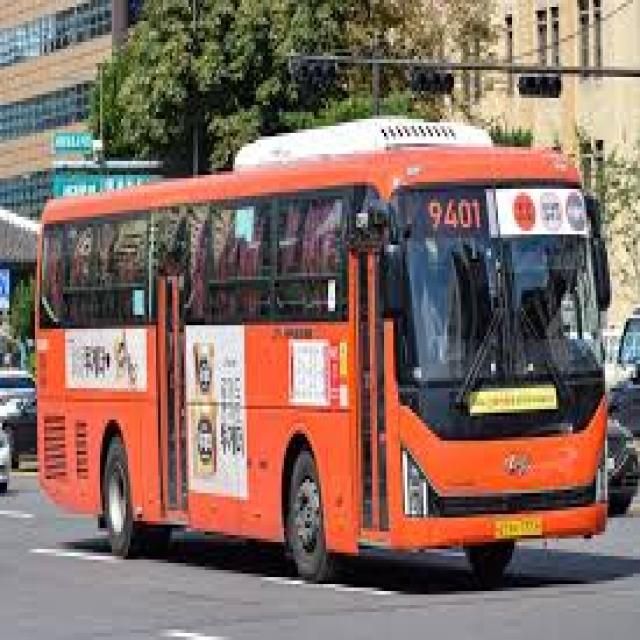bus-number: (427, 194, 483, 233)
